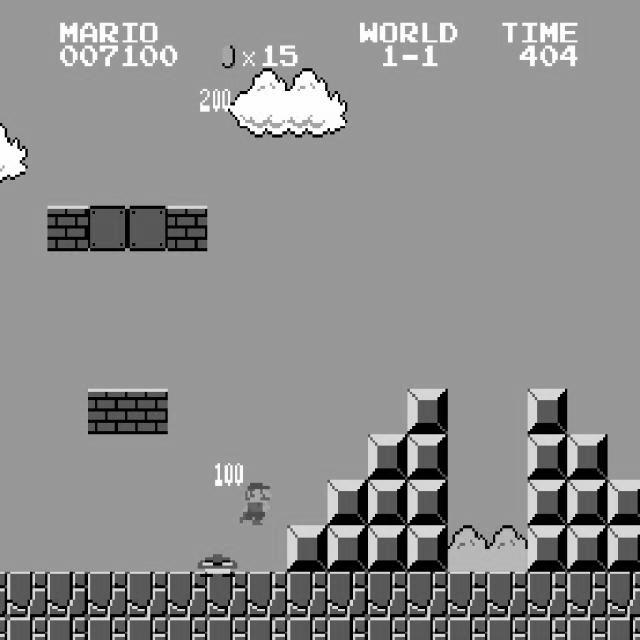1- brick_block: (87, 388, 128, 434), (127, 388, 168, 434), (47, 206, 88, 251), (167, 206, 208, 251)
11- little_mario: (232, 477, 276, 526)
17- undestructible_block: (7, 572, 48, 618), (47, 572, 88, 618), (87, 572, 128, 618), (127, 572, 168, 618), (167, 572, 208, 618), (207, 572, 248, 618), (247, 572, 288, 618), (287, 572, 328, 618), (327, 572, 368, 618), (367, 572, 408, 618), (407, 572, 448, 618), (447, 572, 488, 618), (487, 572, 528, 618), (527, 572, 568, 618), (567, 572, 608, 618), (607, 571, 640, 617), (7, 617, 48, 640), (47, 617, 88, 640), (87, 617, 128, 640), (127, 617, 168, 640), (167, 617, 208, 640), (207, 617, 248, 640), (247, 617, 288, 640), (287, 617, 328, 640), (327, 617, 368, 640), (367, 617, 408, 640), (407, 617, 448, 640), (447, 617, 488, 640), (487, 617, 528, 640), (527, 617, 568, 640), (567, 617, 608, 640), (607, 617, 640, 639), (0, 572, 7, 618), (0, 617, 7, 640)
3- empty_block: (87, 206, 128, 251), (127, 206, 168, 251)
9- hard_block: (287, 526, 328, 572), (327, 480, 368, 526), (327, 526, 368, 572), (367, 434, 408, 480), (367, 480, 408, 526), (367, 526, 408, 572), (407, 388, 448, 434), (407, 434, 448, 480), (407, 480, 448, 526), (407, 526, 448, 572), (527, 388, 568, 434), (527, 434, 568, 480), (527, 480, 568, 526), (527, 526, 568, 572), (567, 434, 608, 480), (567, 480, 608, 526), (567, 526, 608, 572), (607, 525, 640, 571), (607, 480, 640, 525)
